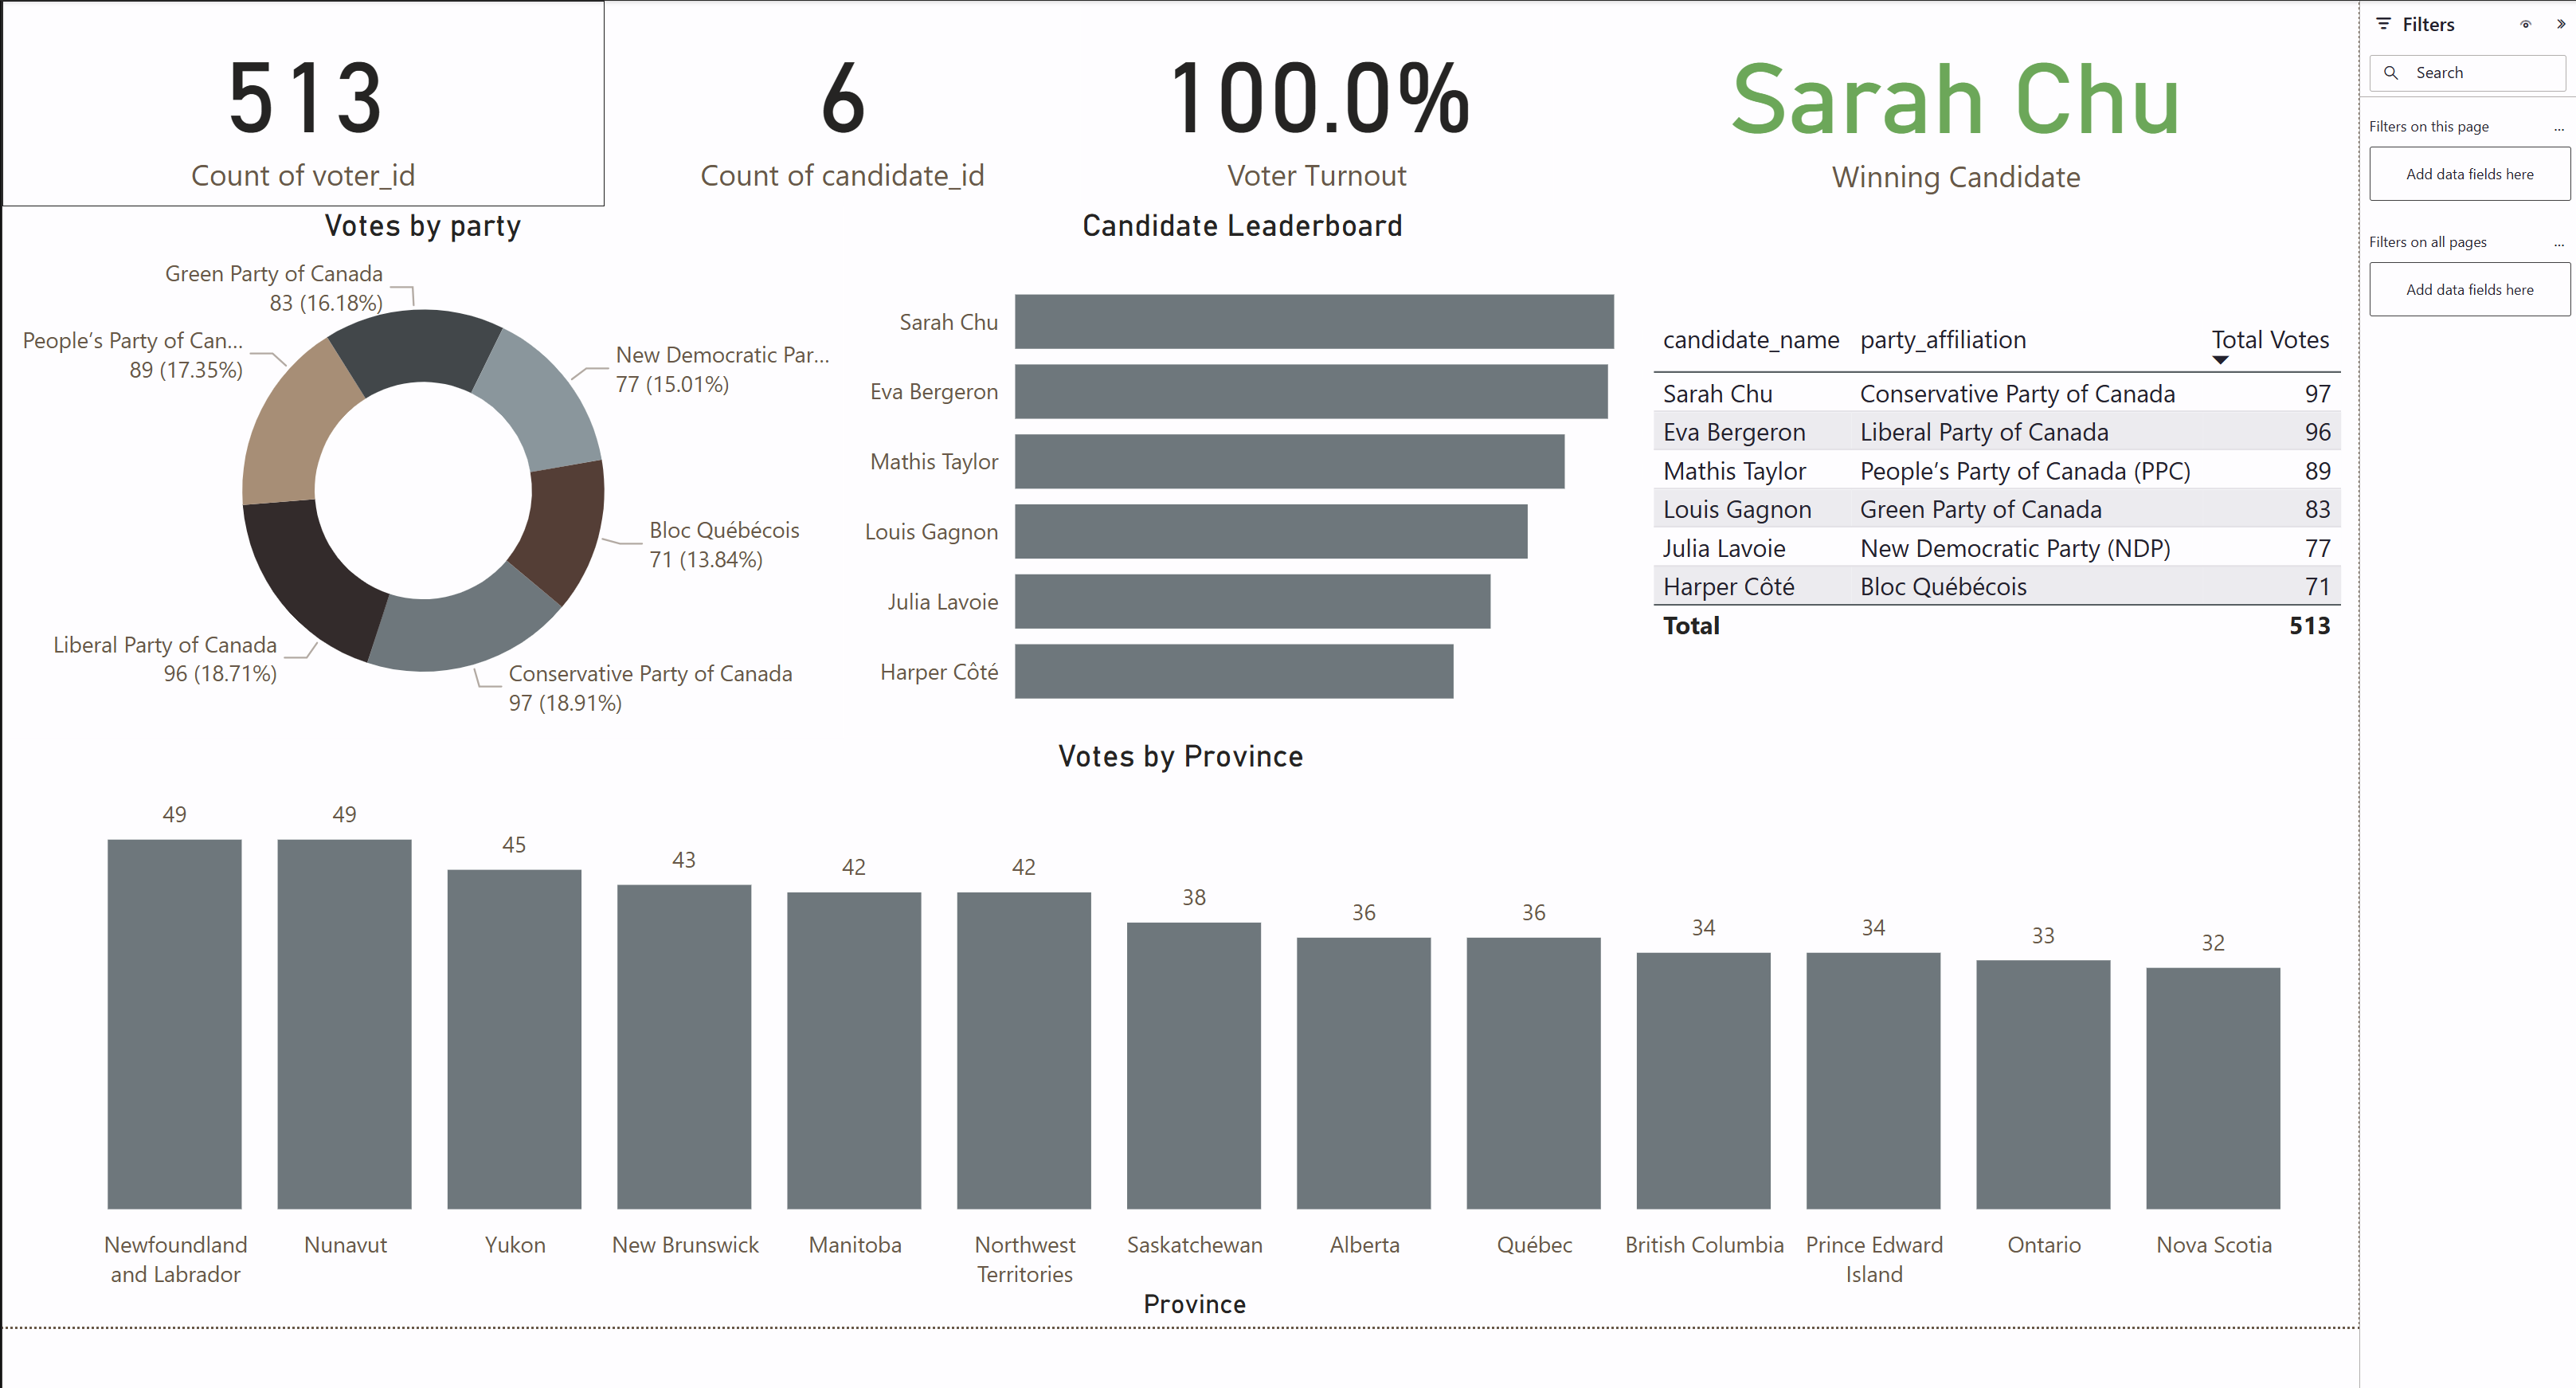

The dashboard page shown, as its layout file describes it:
{"tool":"powerbi","page":{"name":"Vote Overview","canvas":[1280,720],"ordinal":0},"visuals":[{"type":"barChart","title":"Candidate Leaderboard","fields":{"Category":["dim_candidate.candidate_name"],"Y":["CountNonNull(fact_vote.candidate_id)"]},"box":[457,111.5,433.8,288.3],"z":0},{"type":"card","fields":{"Values":["CountNonNull(dim_voter.voter_id)"]},"box":[0,0,327.1,111.5],"z":1000},{"type":"clusteredColumnChart","title":"Votes by Province","fields":{"Y":["CountNonNull(fact_vote.voter_id)"],"Category":["dim_location.state"]},"box":[0,399.8,1280.5,320.3],"z":2000},{"type":"card","fields":{"Values":["_Measures.Winning Candidate"]},"box":[842.7,0,437.7,113.1],"z":3000},{"type":"card","fields":{"Values":["Count(dim_candidate.candidate_id)"]},"box":[327.1,0,258.9,111.6],"z":4000},{"type":"tableEx","fields":{"Values":["dim_candidate.candidate_name","dim_candidate.party_affiliation","_Measures.Total Votes"]},"box":[891.3,168,388.5,196.9],"z":5000},{"type":"donutChart","title":"Votes by party","fields":{"Category":["dim_candidate.party_affiliation"],"Y":["_Measures.Total Votes"]},"box":[0,111.6,456.8,288.8],"z":6000},{"type":"card","fields":{"Values":["_Measures.Voter Turnout %"]},"box":[586,0,256.3,111.6],"z":7000}]}

Visuals, with their boxes on the page's 1280x720 design canvas (x1, y1, x2, y2). These are canvas units, not pixel positions in the 2576x1388 screenshot, which may show the page scaled, cropped or inside an application window:
"Candidate Leaderboard" barChart: (457,112,891,400)
card - CountNonNull(dim_voter.voter_id): (0,0,327,112)
"Votes by Province" clusteredColumnChart: (0,400,1280,720)
card - _Measures.Winning Candidate: (843,0,1280,113)
card - Count(dim_candidate.candidate_id): (327,0,586,112)
tableEx - dim_candidate.candidate_name x dim_candidate.party_affiliation: (891,168,1280,365)
"Votes by party" donutChart: (0,112,457,400)
card - _Measures.Voter Turnout %: (586,0,842,112)
